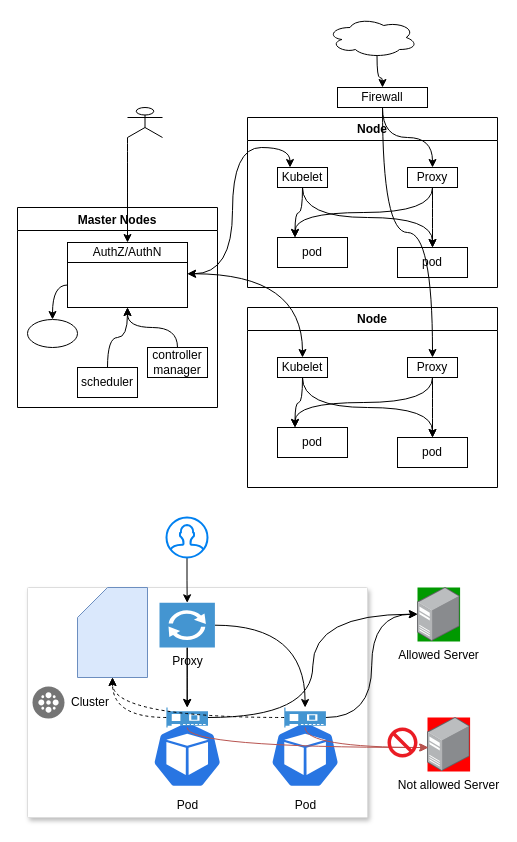
The diagram is 517 pixels wide and 842 high, and some of its shapes have lost their labels. The shapes that lost their labels are listed below. From the top down, each one's centre as x and y in pixels, then its label:
At point 372,37: "Internet".
At point 144,122: "Kubectl/Dashboard".
At point 127,285: "APIs".
At point 52,333: "etcd".
At point 186,537: "User".
At point 112,632: "Network Policy: white list IP&Port...".
